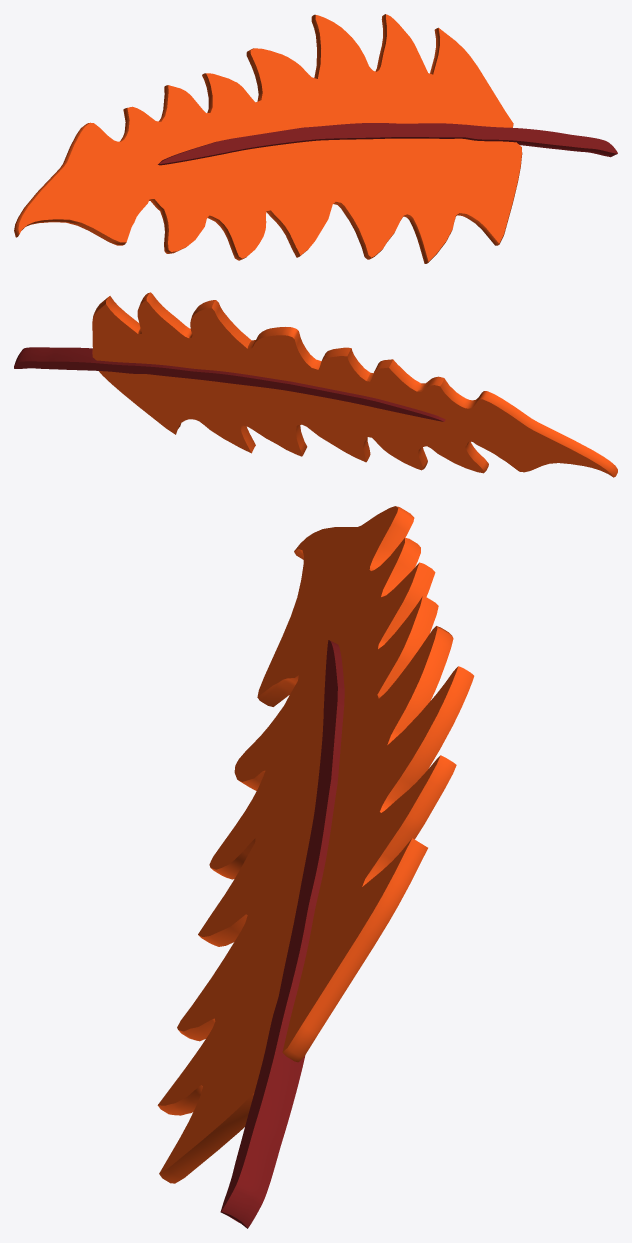
File: Pena de Fenix.fbx
3 renders of one model, top to bottom at view 1: azimuth 30°, elevation 25°; view 2: azimuth 150°, elevation 25°; view 3: azimuth 270°, elevation 25°, orthographic. The views are drawn at different scales.
Visible parts, largest first — view 1: Pena De Fenix; view 2: Pena De Fenix; view 3: Pena De Fenix.
Boxes of the visible parts, x1,y1,x2,y2 form: Pena De Fenix: (14,14,617,263); Pena De Fenix: (14,292,617,477); Pena De Fenix: (157,506,474,1228).
Size of the model in its own units: 196 by 66.26 by 46.15.
